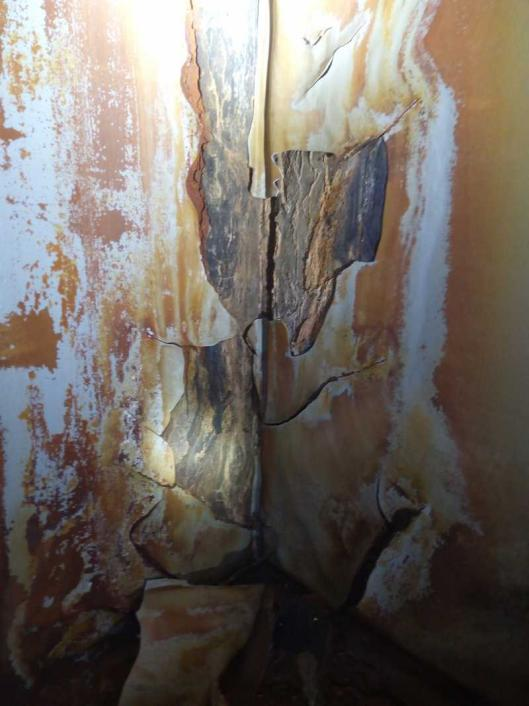corrosion: (95, 355, 444, 700), (166, 0, 422, 337), (427, 0, 529, 605), (0, 9, 199, 299), (0, 421, 198, 700), (12, 296, 162, 368)
